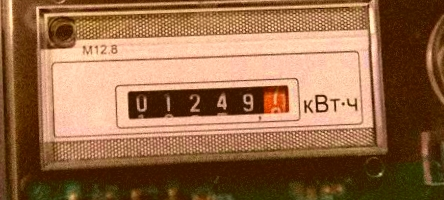0: (134, 92, 149, 113)
1: (161, 91, 174, 113)
2: (186, 91, 203, 114)
4: (215, 90, 229, 110)
7: (269, 85, 282, 105)
9: (241, 91, 255, 112)
screen: (111, 73, 304, 130)
